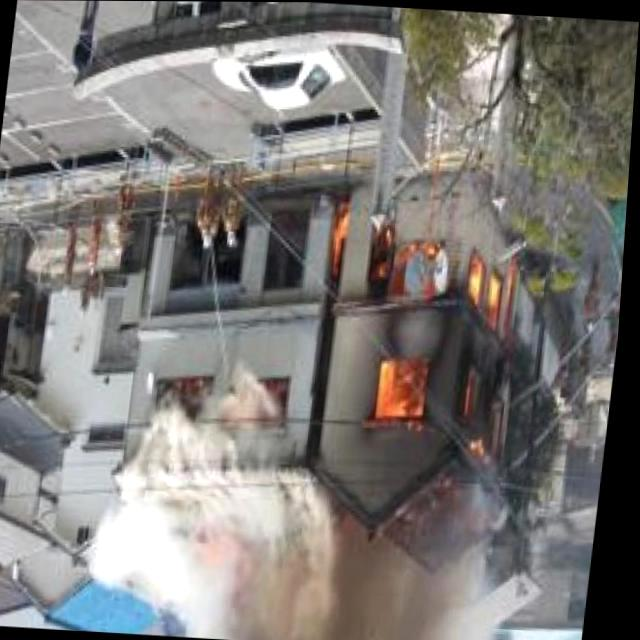fire: (298, 194, 532, 458)
